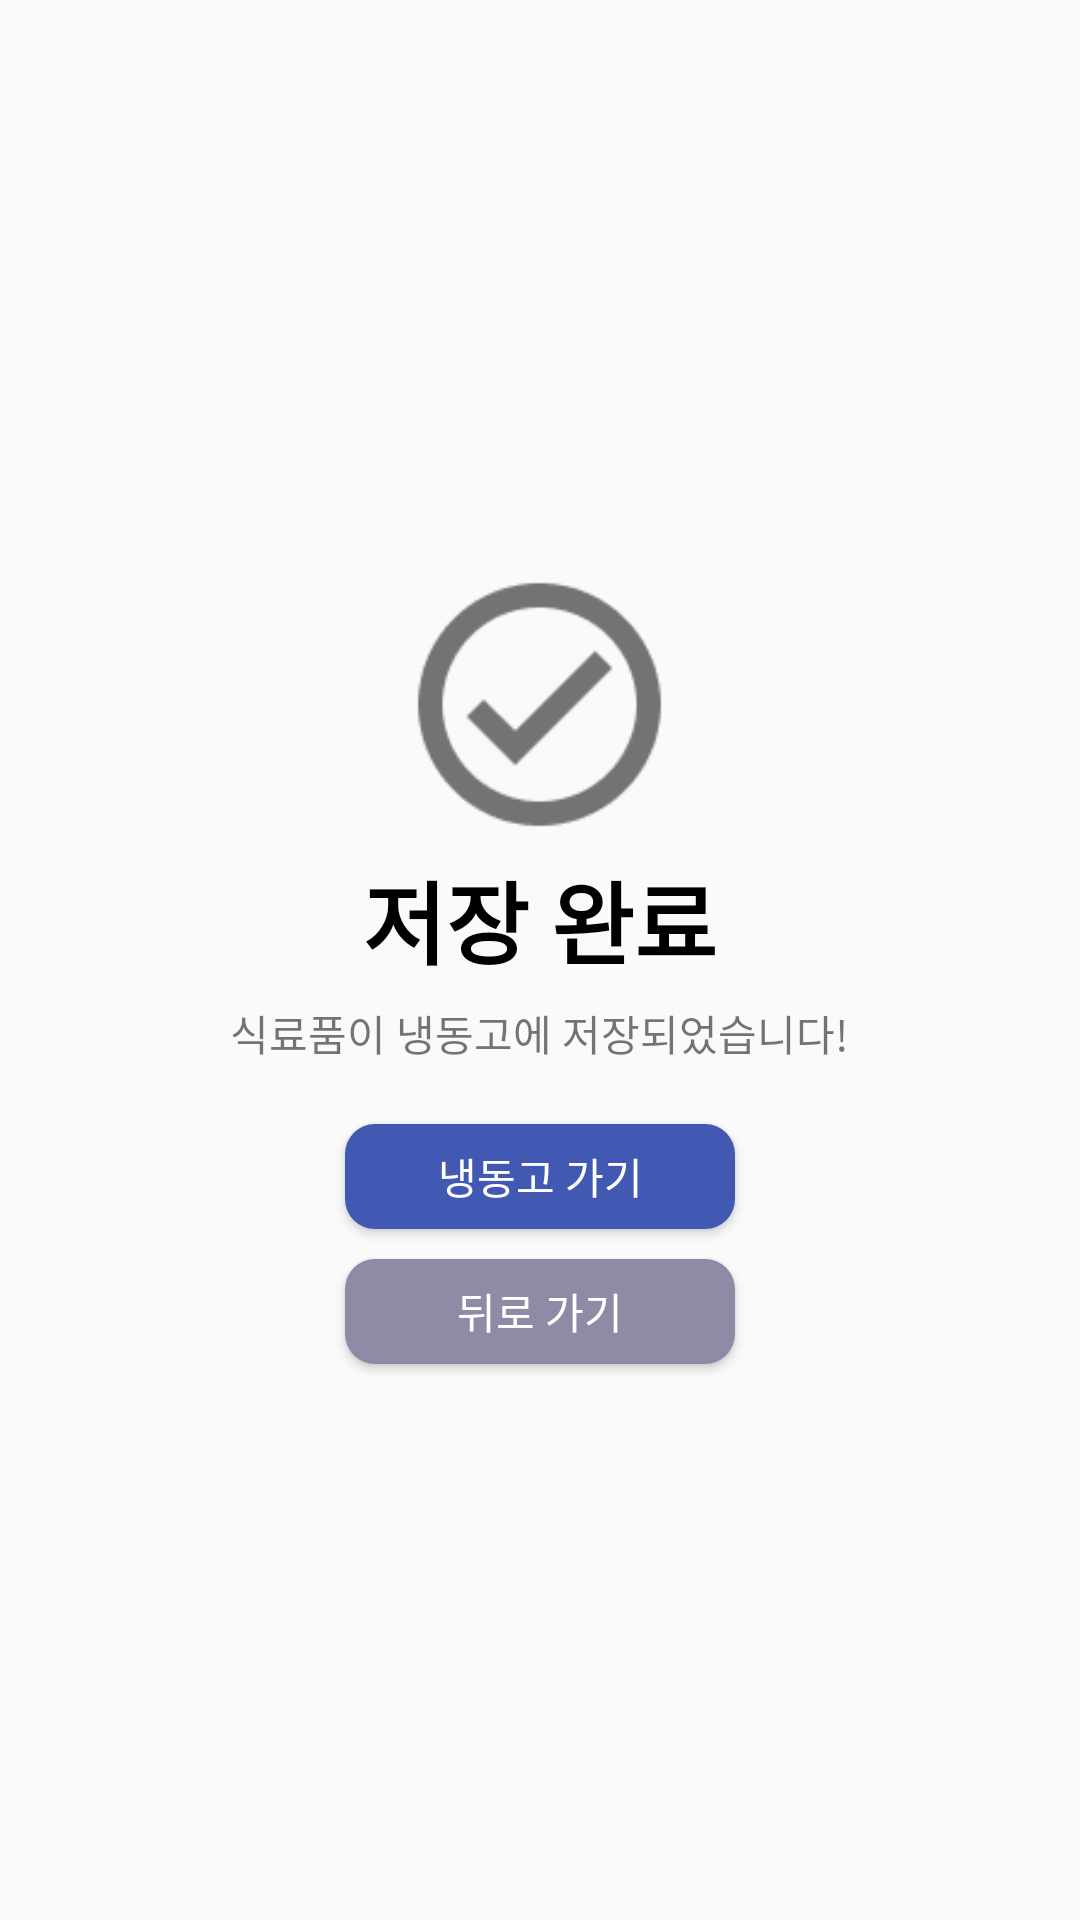

Named icons in this screenshot (1080×1920) and their centers, [x,y]:
check: [539,704]
